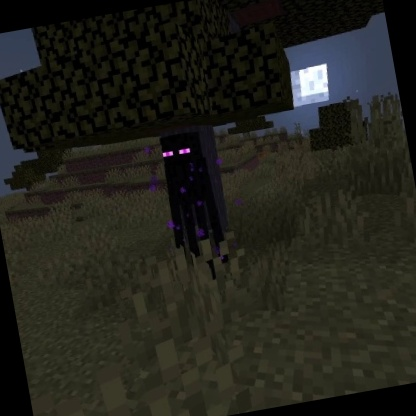enderman: (153, 126, 235, 287)
